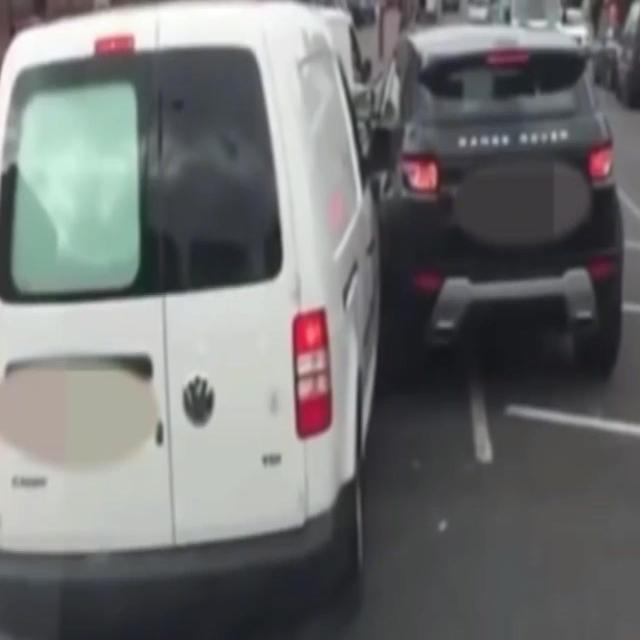multiple_accident: (136, 0, 510, 471)
